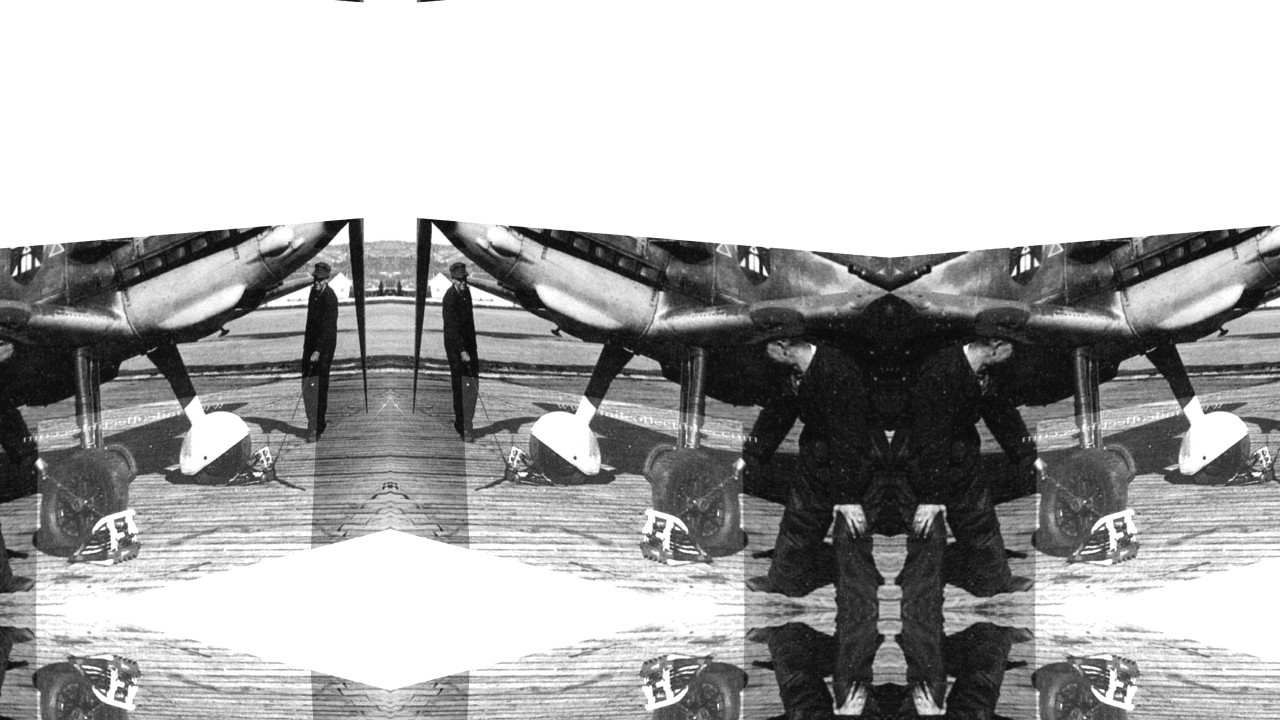chock: (61, 503, 146, 581), (634, 503, 719, 581), (1061, 503, 1146, 581), (61, 639, 146, 717), (634, 639, 719, 717), (1061, 639, 1146, 717), (225, 439, 283, 496), (497, 439, 555, 496), (1225, 439, 1280, 496)
wheel: (26, 436, 147, 566), (633, 436, 754, 566), (1026, 436, 1147, 566), (173, 399, 261, 493), (519, 399, 607, 493), (1173, 399, 1261, 493), (26, 654, 147, 720), (633, 654, 754, 720), (1026, 654, 1147, 720)
